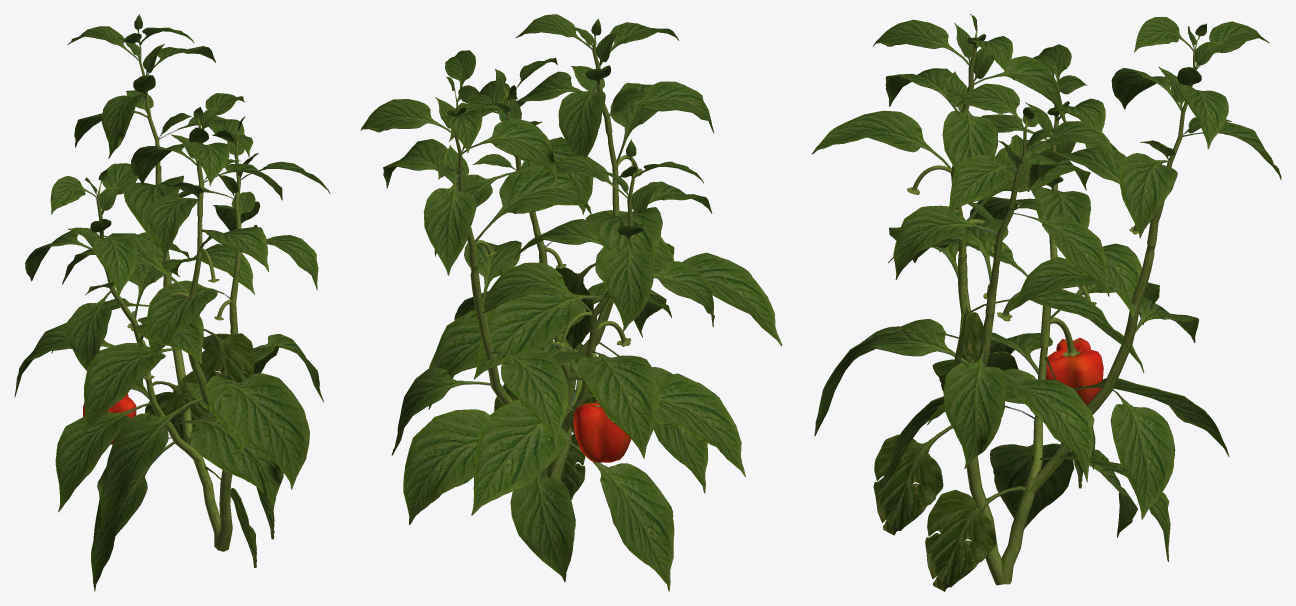
The model's file is VG07_6_one_fruit.dae.
3 views of the same model, side by side, from view 1: azimuth 30°, elevation 25°; view 2: azimuth 150°, elevation 25°; view 3: azimuth 270°, elevation 25° (orthographic). The views are drawn at different scales.
Visible parts, largest first — view 1: VG07_6; view 2: VG07_6; view 3: VG07_6.
Part boxes in pixels (left/top/right/bottom): VG07_6: left=14, top=14, right=330, bottom=591; VG07_6: left=360, top=14, right=782, bottom=591; VG07_6: left=812, top=14, right=1281, bottom=591.
Bounding box in the file's own units: 18.33 × 23.83 × 32.95.
4 materials, 4 textured.
